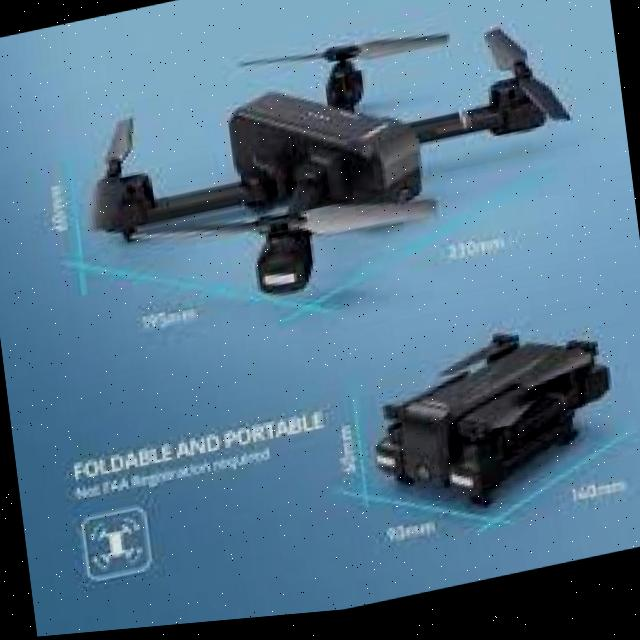drone: (24, 0, 592, 366)
